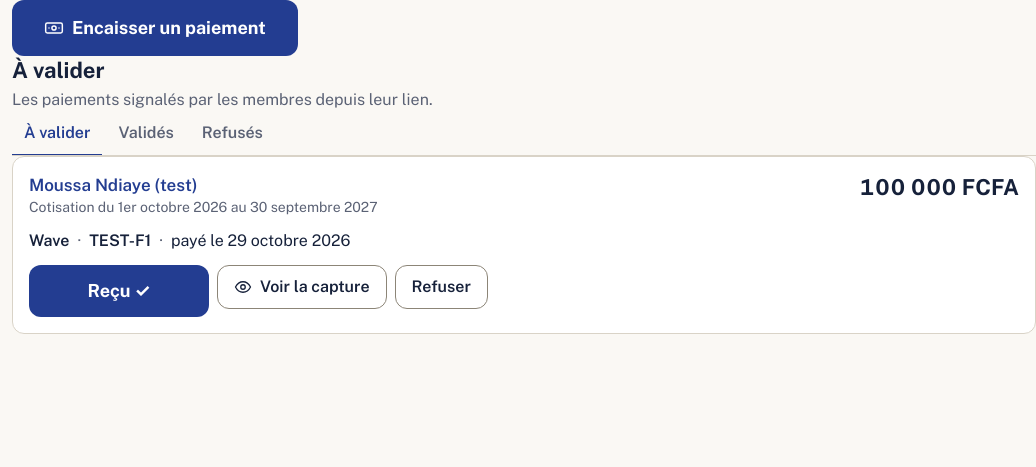
B3 — « Reçu ✓ » : la confirmation légère (R9) › sans reçu dans la réponse : ni promesse, ni lien
The width and height of the screenshot is (1036, 467).
Click the button "Reçu ✓": (119, 291) 29,265 -> 209,317
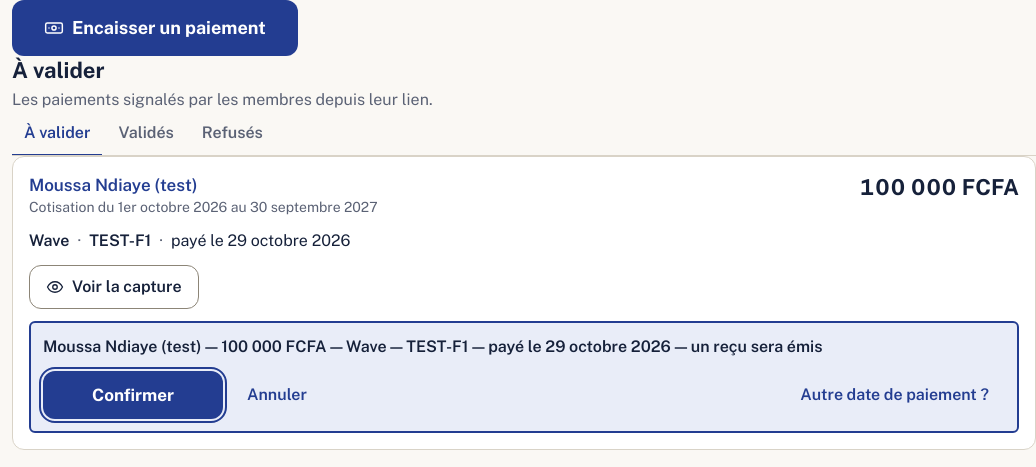
Click the button "Confirmer": (133, 395) 43,371 -> 223,419
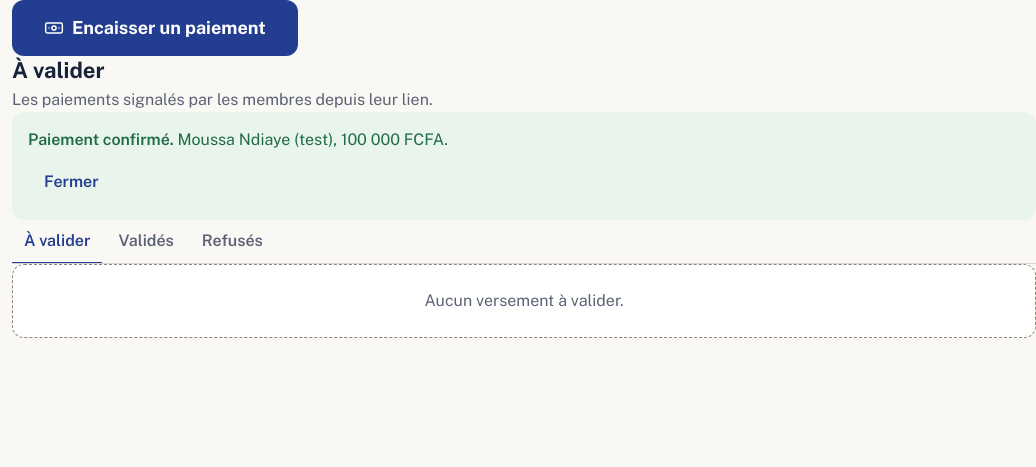
Expected: the text "Paiement confirmé." is shown, 28,130 -> 174,149
